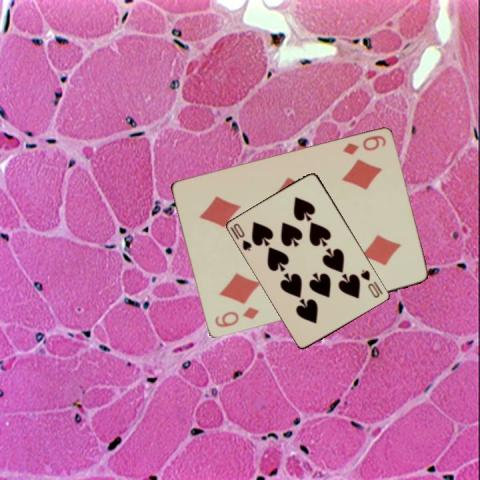10s: (358, 268, 381, 300), (231, 220, 253, 253)
6d: (211, 304, 260, 329), (340, 132, 387, 156)
